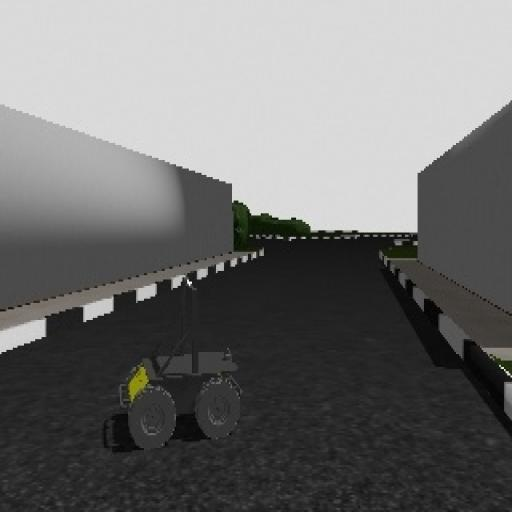huskya200: (119, 261, 242, 451)
